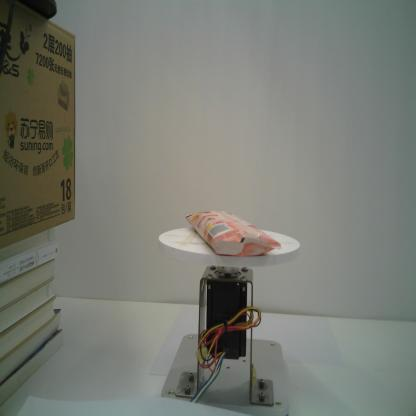Dessert: (185, 211, 281, 256)
